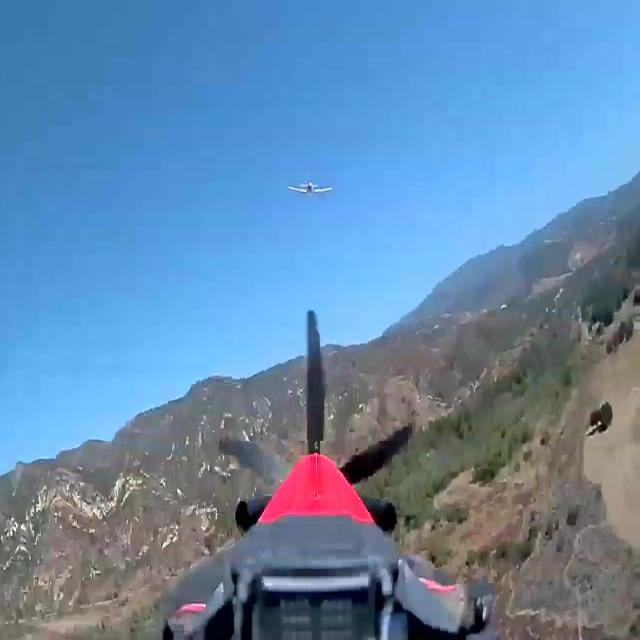iha: (287, 182, 334, 201)
